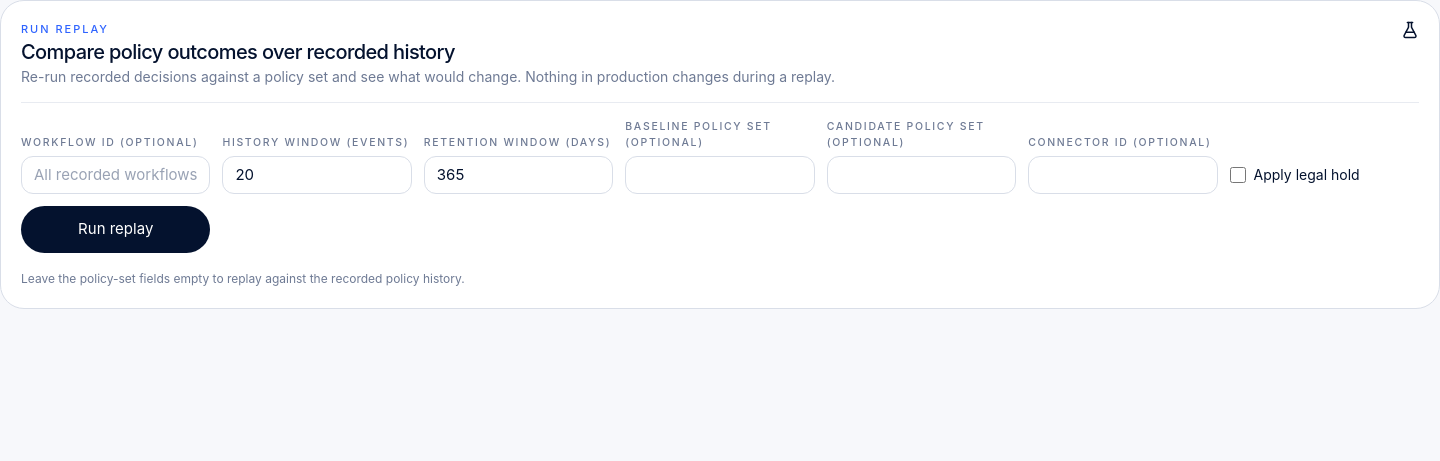
RunReplayForm › surfaces API rejections inline with the API's own message
The width and height of the screenshot is (1440, 461).
Step 1. Type "policy_set_v1" into the field labelled "Baseline policy set (optional)" → (720, 175), box [625,156,815,194]
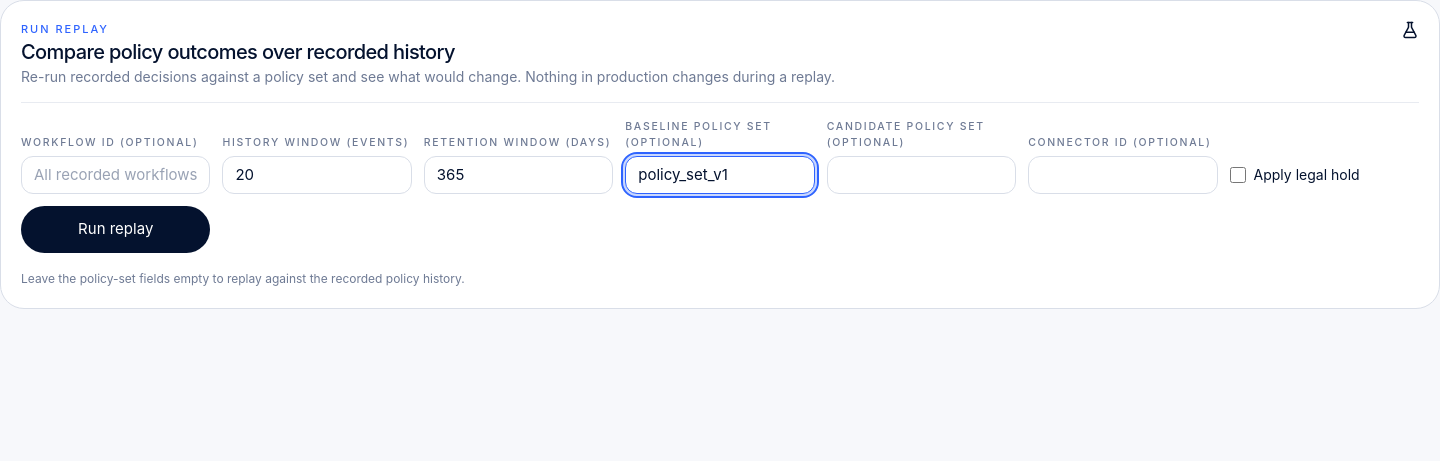
Step 2. Click the button "Run replay" → (116, 230), box [21,206,210,253]
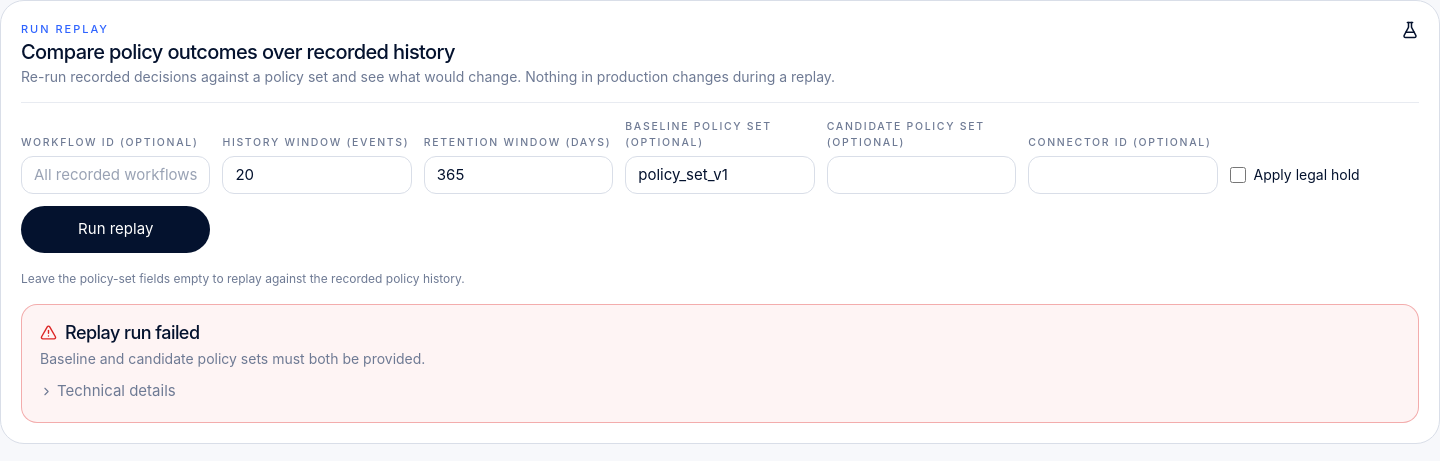
Check: the heading "Replay run failed" is shown, box [40,322,200,343]
Check: the text "Baseline and candidate policy sets must both be provided." is shown, box [40,348,425,368]
